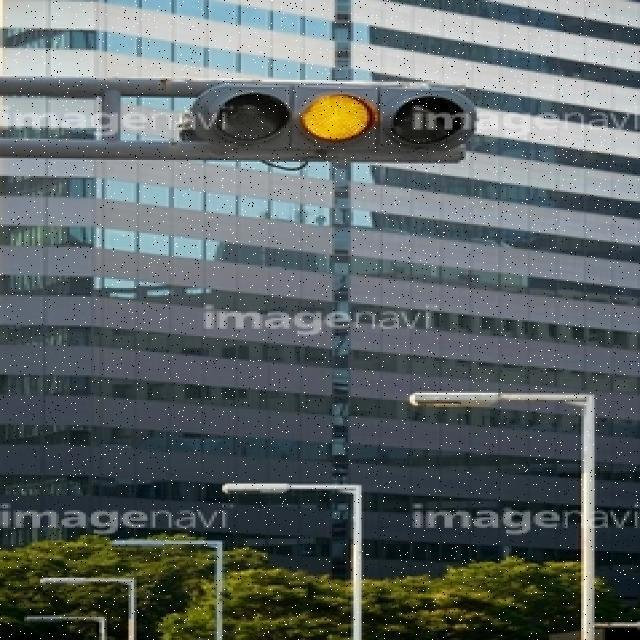yellow_light: (304, 80, 386, 162)
